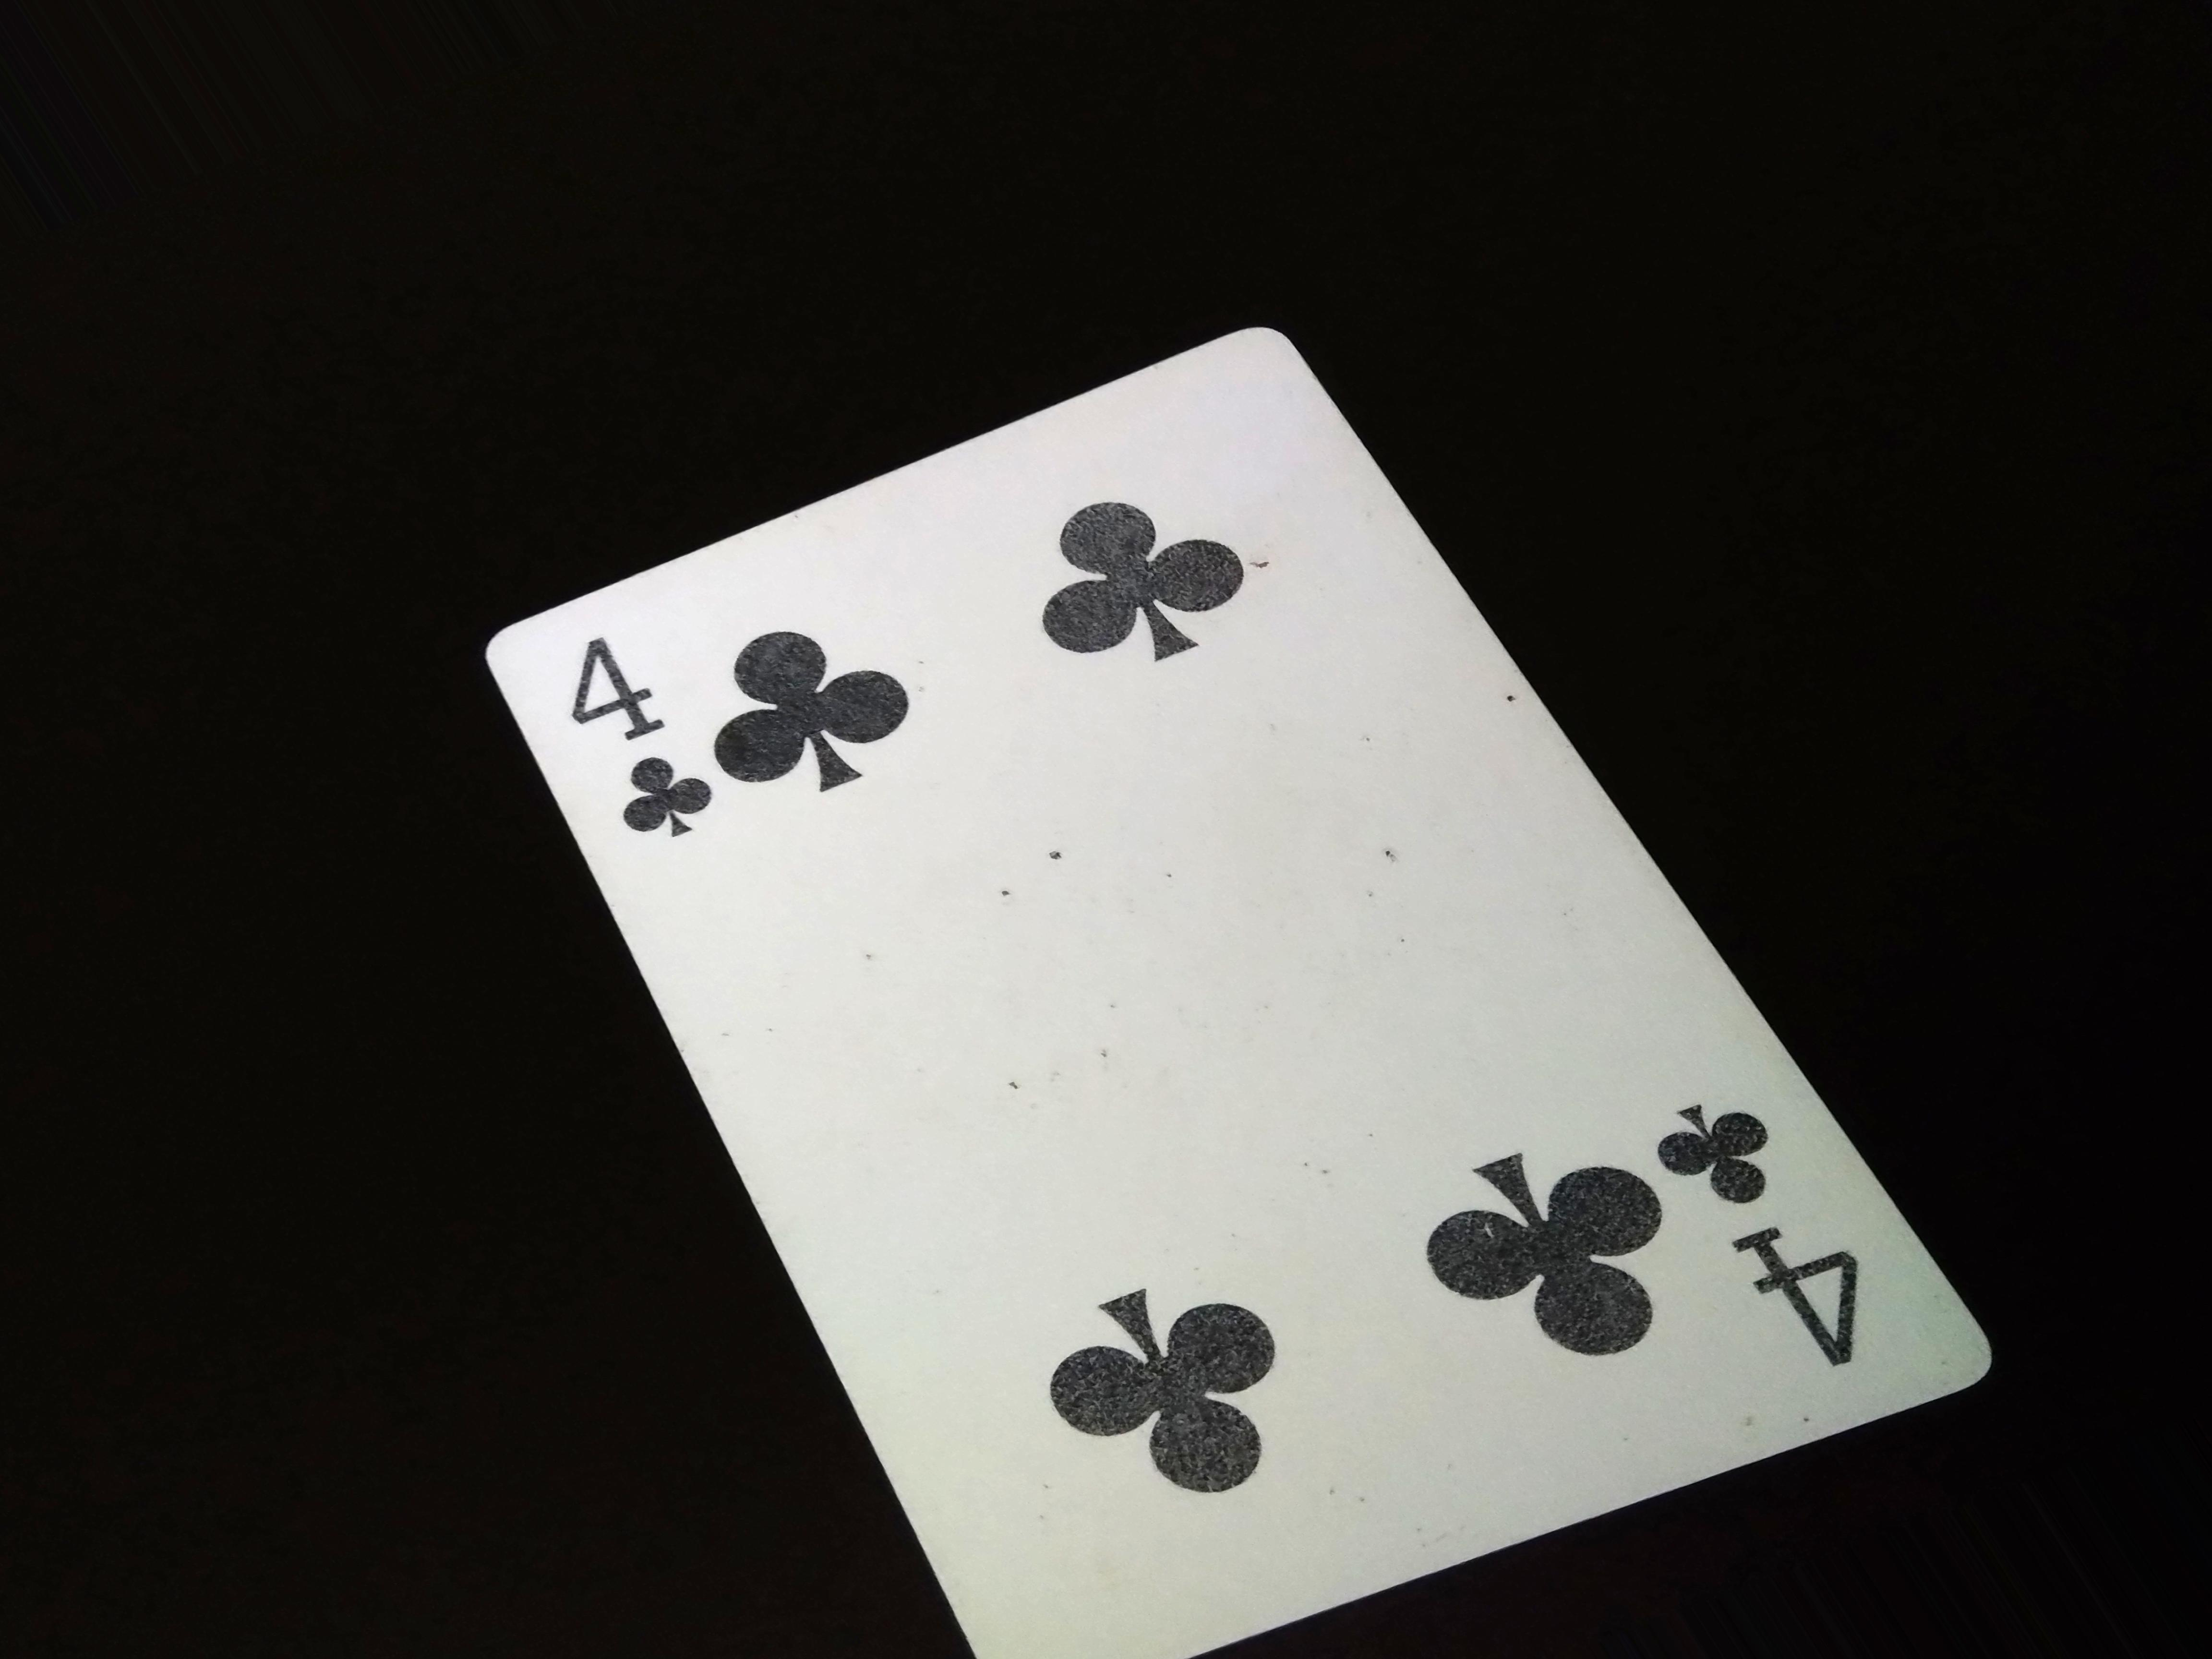4C: (573, 608, 716, 866)
